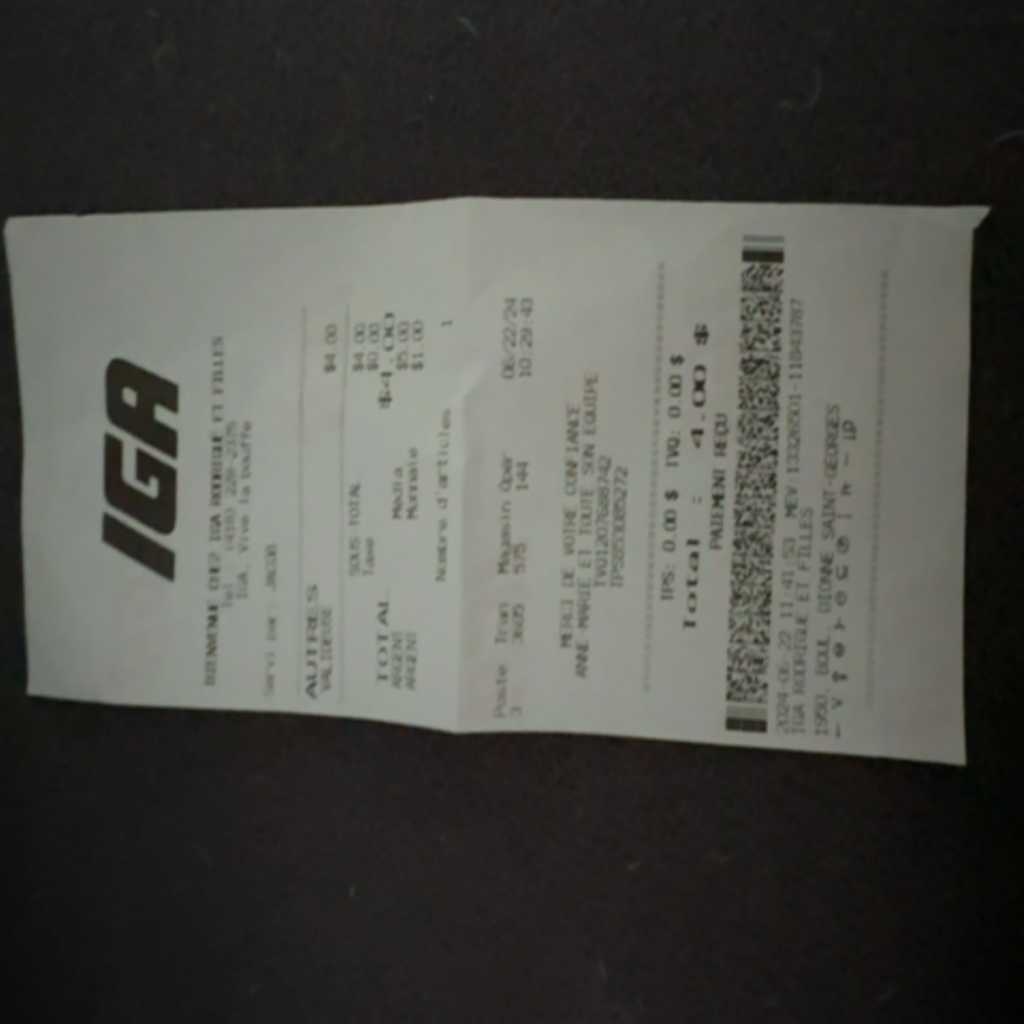recipt: (0, 198, 992, 764)
